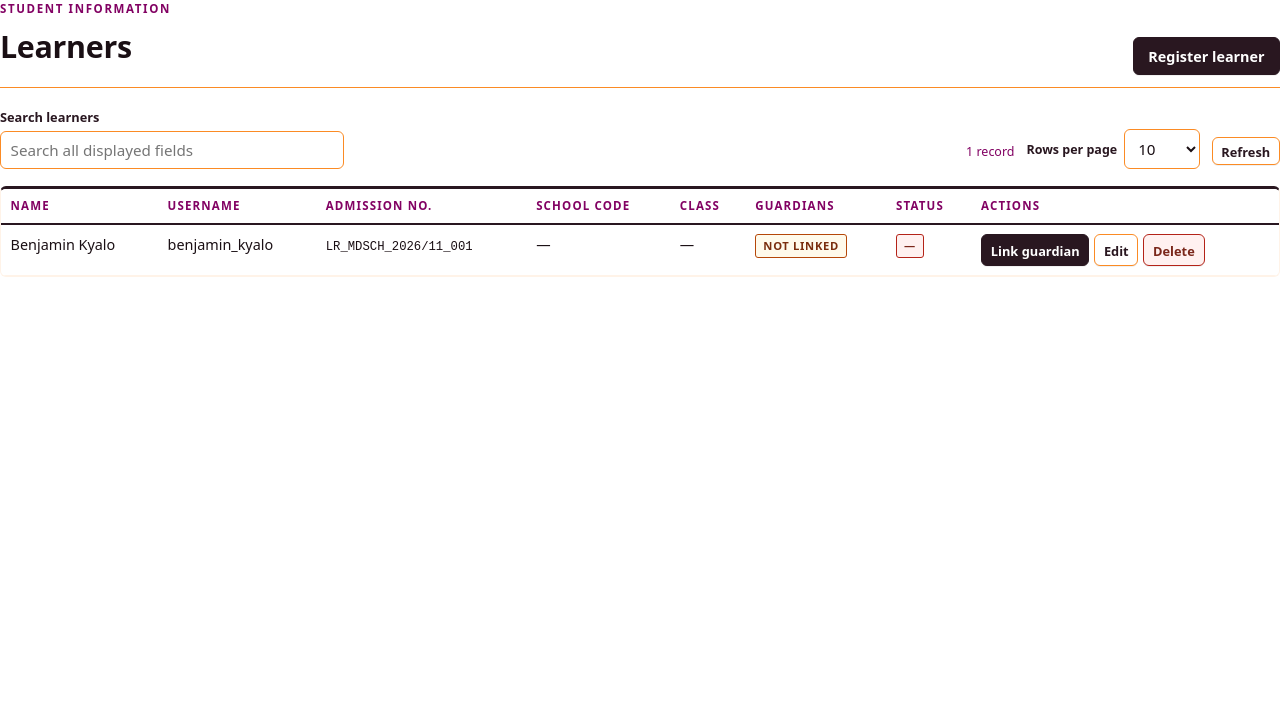
Scenario: Learners guardian linking › requires a reason before rejecting a pending request inline
Later steps or results of the test are not shown.
Click the button "Link guardian" at (1035, 250), box left=981, top=234, right=1089, bottom=266
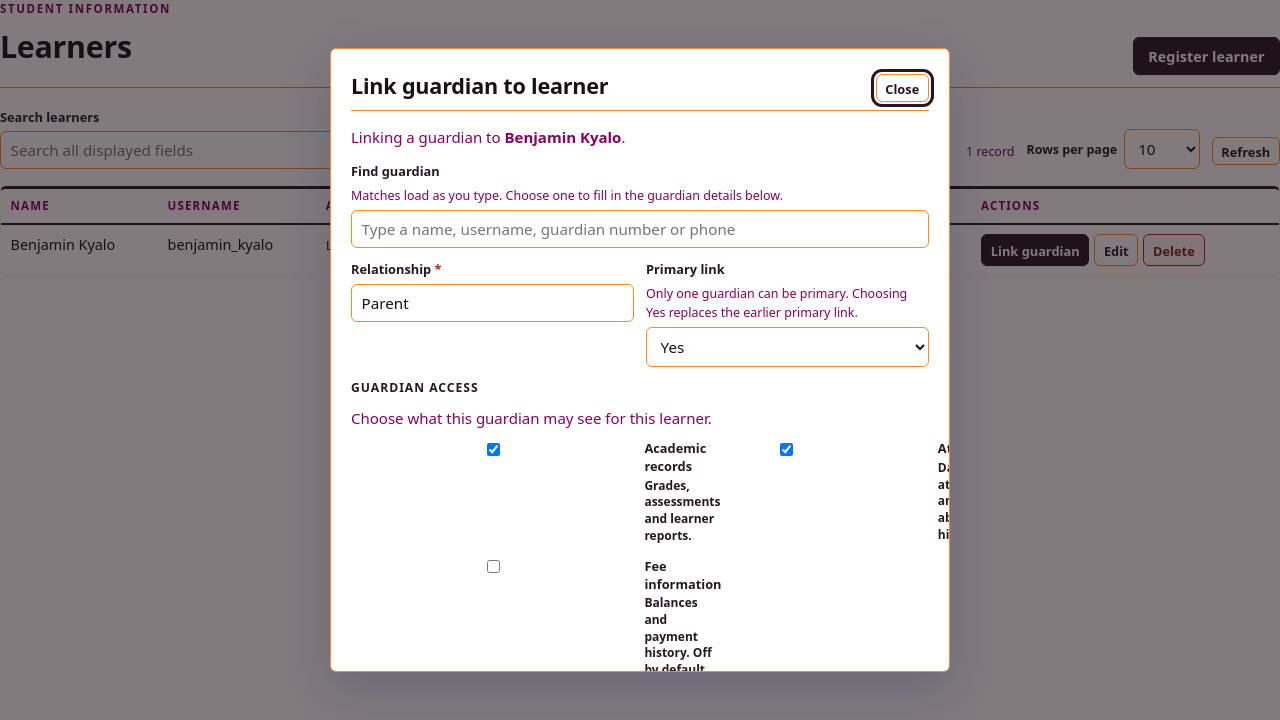
Type "mary" into the dropdown with placeholder "Type a name, username, guardian number or phone" at (640, 229), box left=351, top=210, right=929, bottom=248
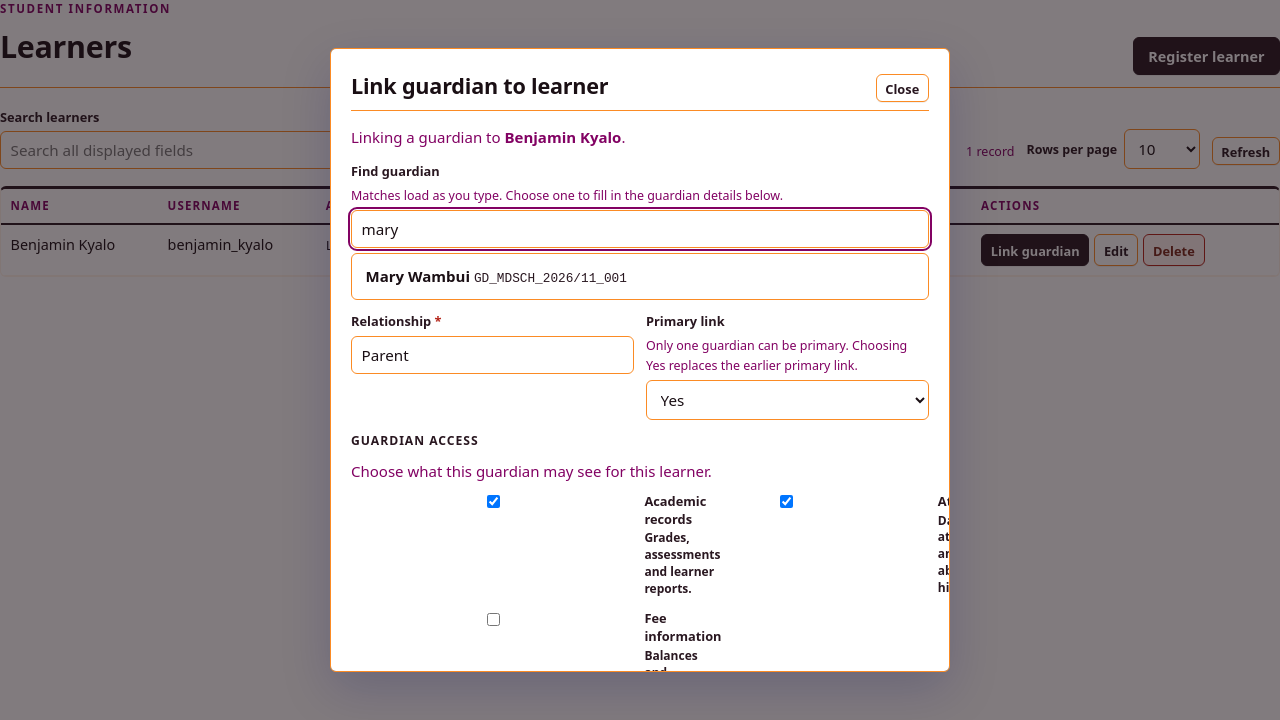
Click the text "Mary Wambui" at (418, 276), box left=366, top=266, right=470, bottom=286
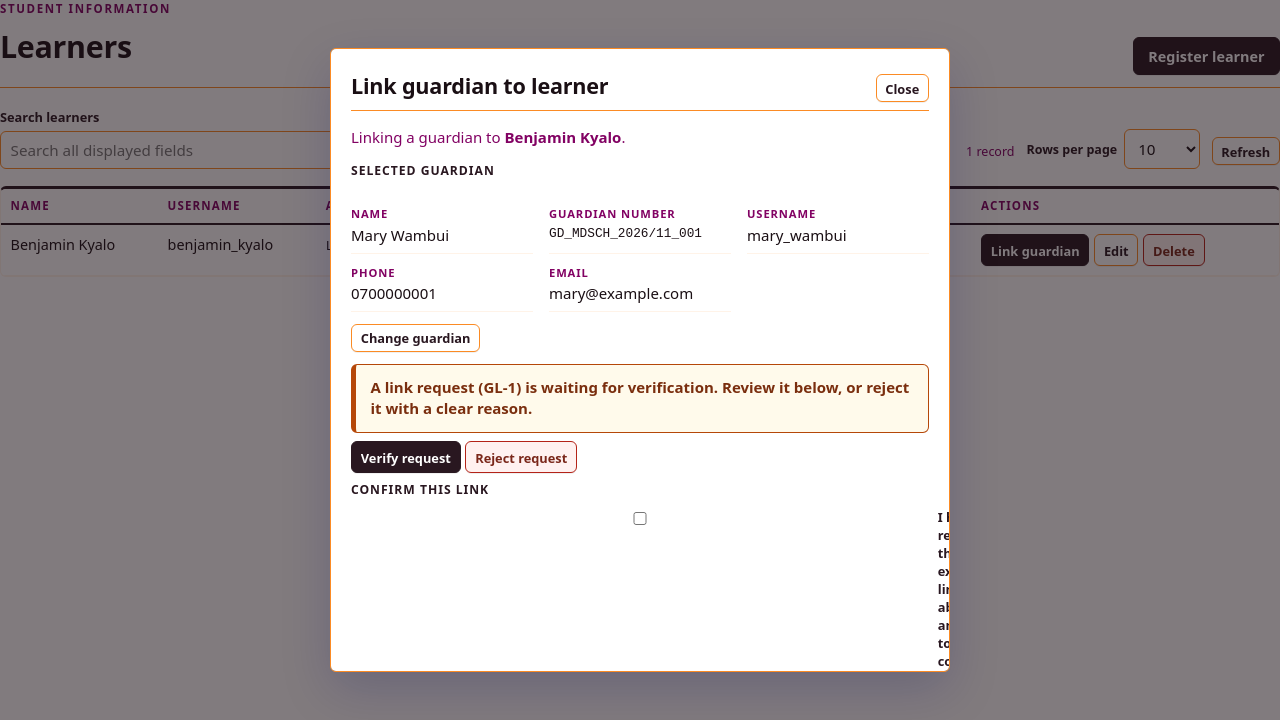
Click the button with aria-label "Reject link request GL-1" at (521, 457), box left=465, top=441, right=577, bottom=473
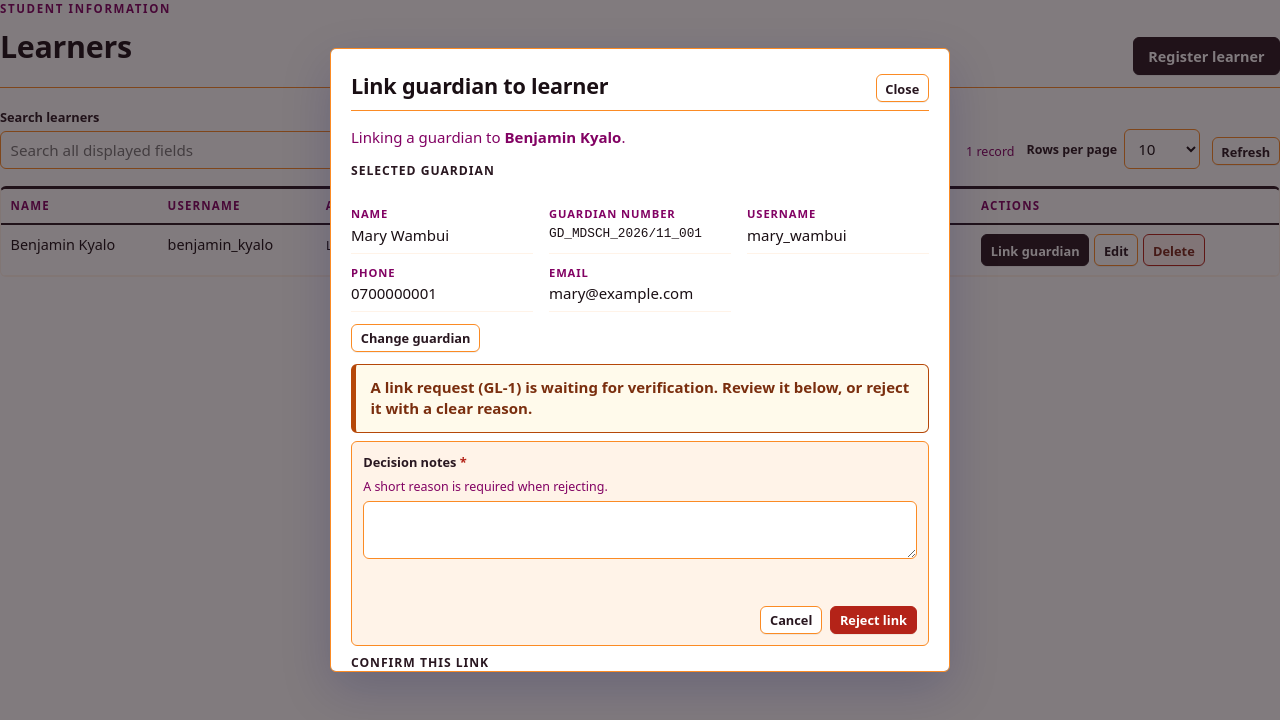
Click the button "Reject link" at (873, 620), box left=830, top=606, right=917, bottom=634
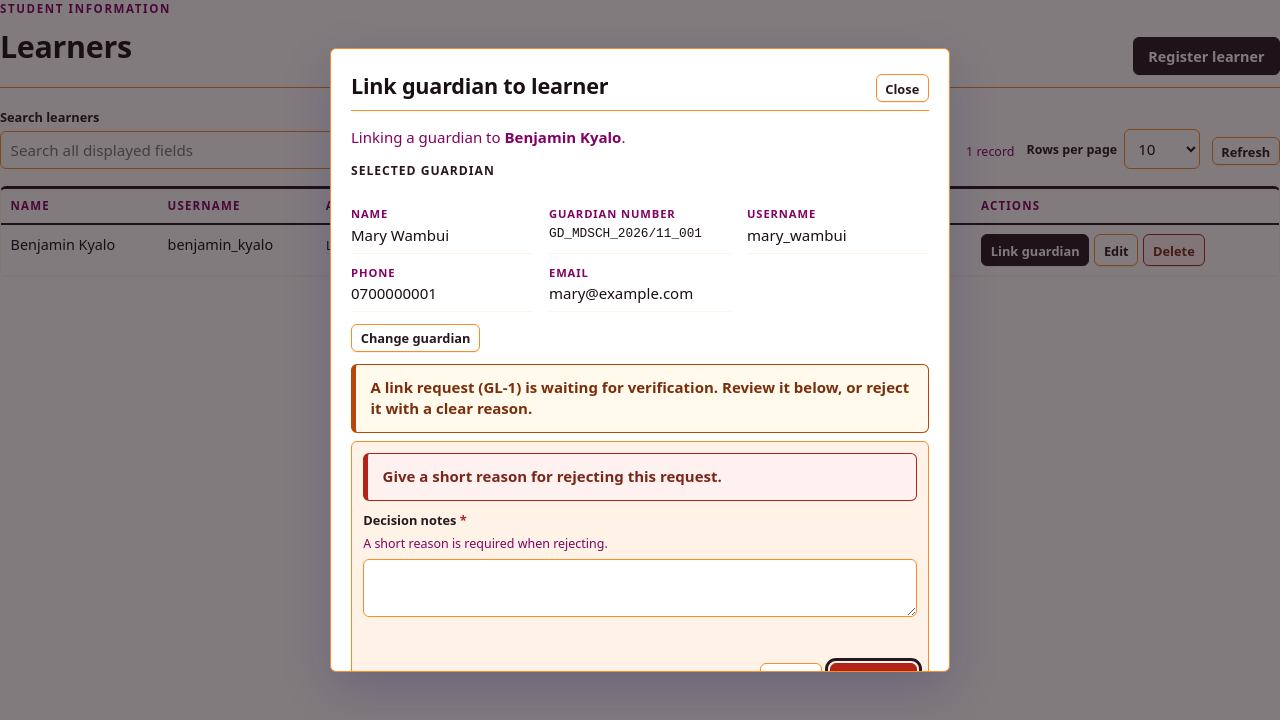
Result: the message "Give a short reason for rejecting this request." is shown at left=363, top=453, right=917, bottom=501
